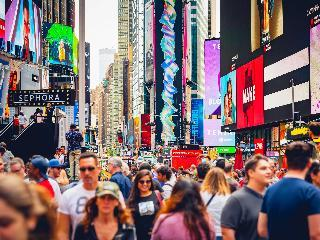person - v3 P: (258, 142, 319, 239), (221, 154, 270, 239), (152, 178, 215, 239), (58, 153, 100, 239), (75, 182, 135, 239), (0, 177, 55, 239), (127, 170, 164, 239), (200, 168, 230, 239), (66, 123, 85, 180), (29, 157, 54, 199), (108, 157, 132, 200), (257, 0, 274, 46), (48, 159, 64, 204), (157, 166, 175, 199), (307, 122, 319, 159), (224, 163, 239, 192), (0, 143, 14, 172), (306, 160, 319, 188), (10, 158, 28, 178), (56, 169, 69, 193), (197, 163, 210, 184), (18, 111, 27, 133), (121, 162, 132, 180), (153, 179, 163, 195), (54, 148, 64, 164), (46, 103, 53, 122), (14, 114, 19, 135), (37, 110, 44, 123), (131, 164, 138, 176), (280, 168, 286, 178)
